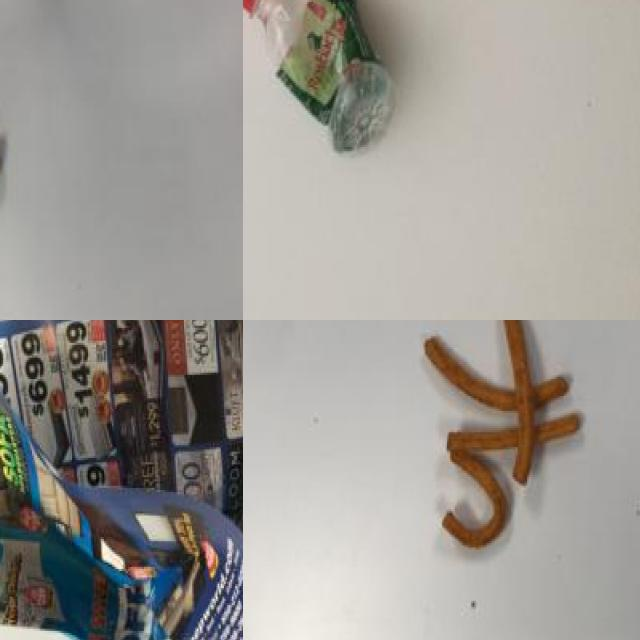compost: (400, 320, 590, 584), (0, 104, 82, 320)
paper: (0, 320, 243, 640)
plastic: (243, 0, 421, 164)
